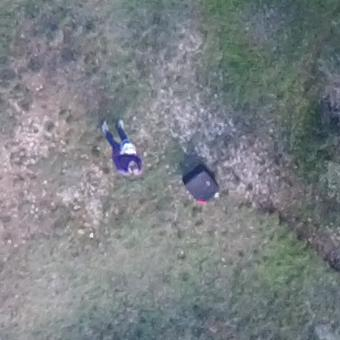human: (101, 119, 144, 177)
